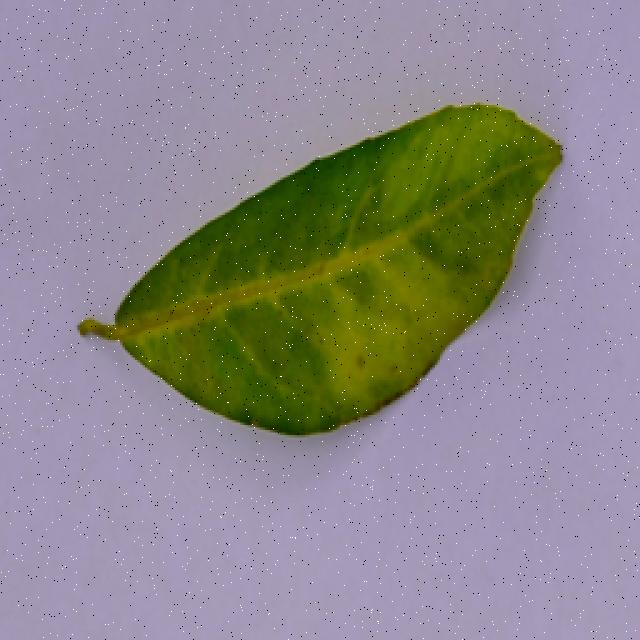greening: (65, 96, 574, 470)
